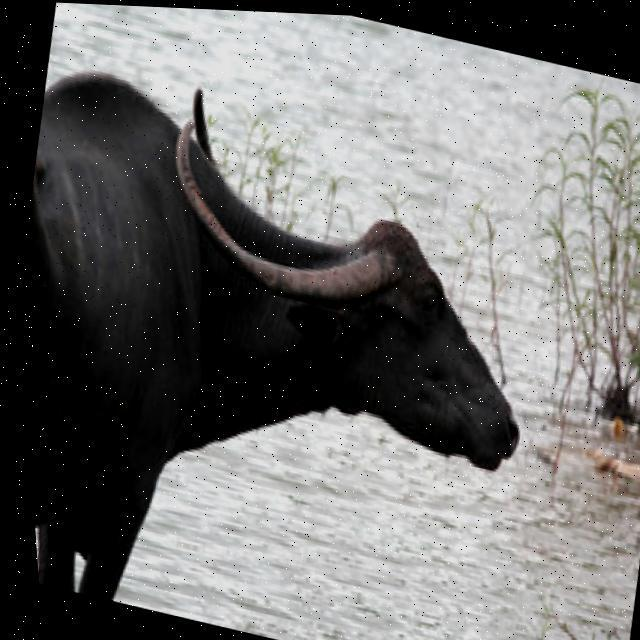Buffalo: (3, 47, 588, 640)
